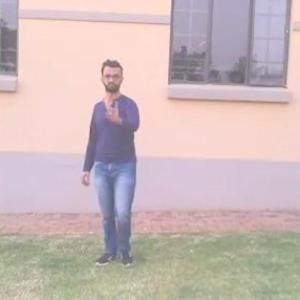takeoff-hand: (101, 92, 128, 127)
